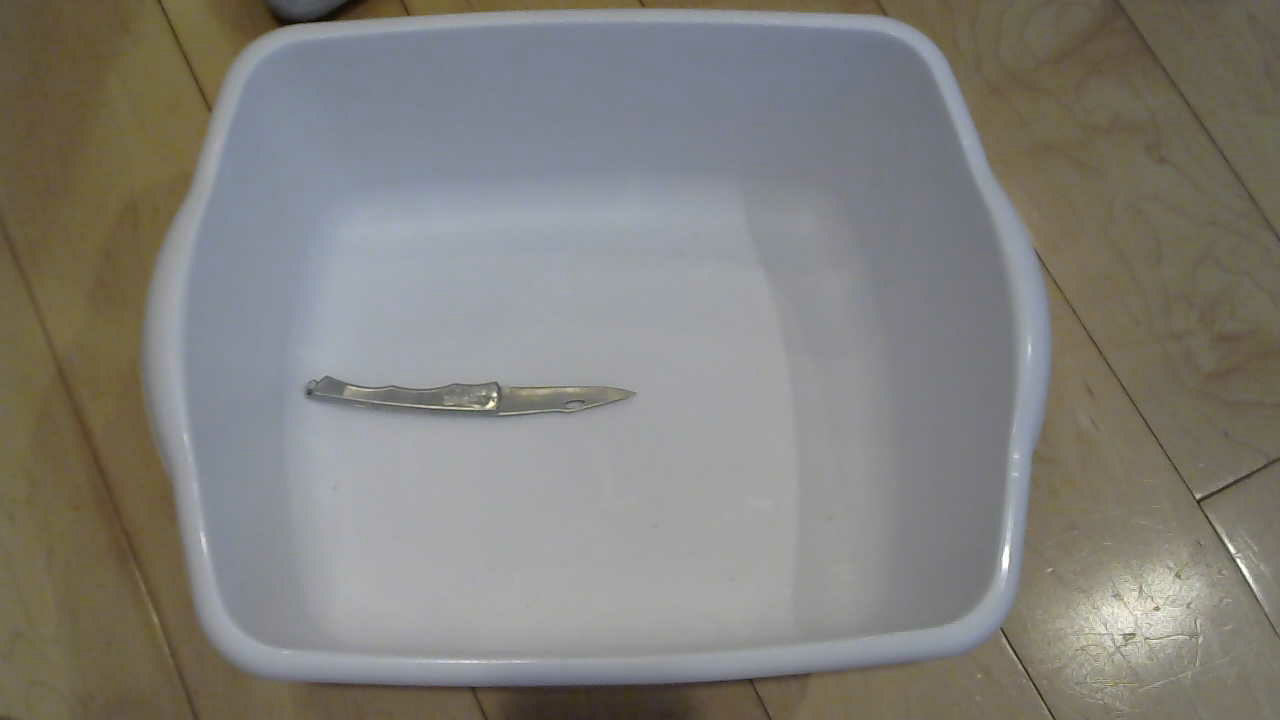knife: (306, 365, 651, 430)
